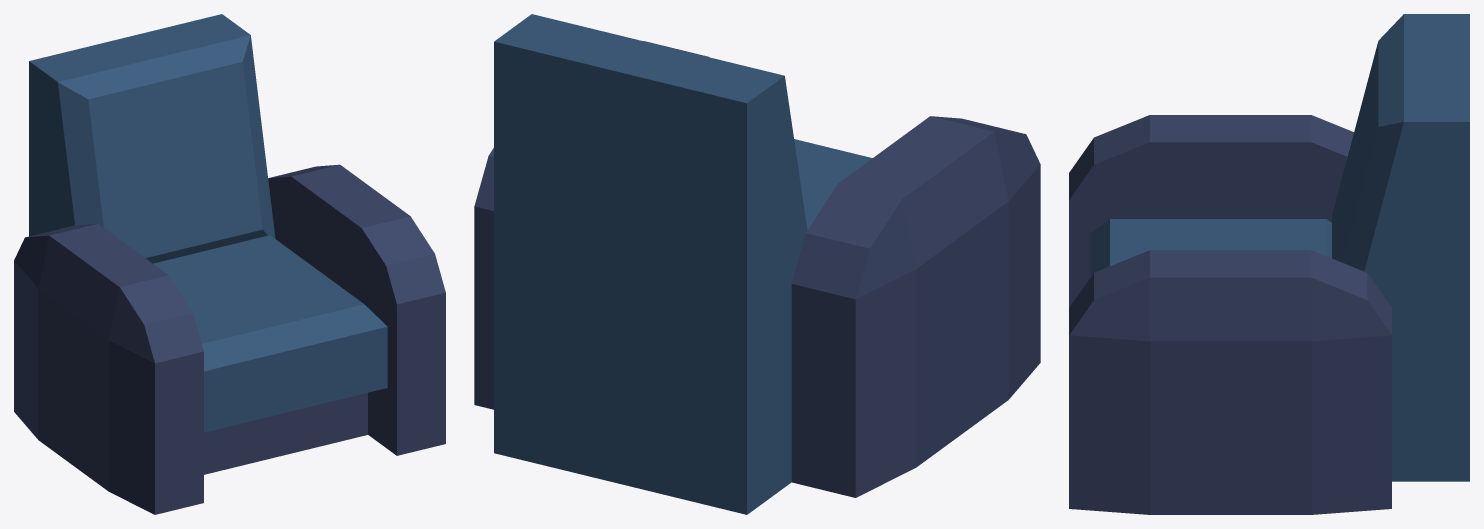
File: g_o_SofaChair.fbx
The picture shows the model from 3 angles, left to right: view 1: azimuth 30°, elevation 25°; view 2: azimuth 150°, elevation 25°; view 3: azimuth 270°, elevation 25°; orthographic projection. The views are drawn at different scales.
Visible parts, largest first — view 1: g_o_SofaChair; view 2: g_o_SofaChair; view 3: g_o_SofaChair.
Part boxes in pixels (box(x1,y1,x2,y2)): g_o_SofaChair: box(14, 14, 445, 514); g_o_SofaChair: box(474, 14, 1040, 514); g_o_SofaChair: box(1069, 14, 1469, 514).
Bounding box in the file's own units: 78.4 × 75.25 × 75.97.
